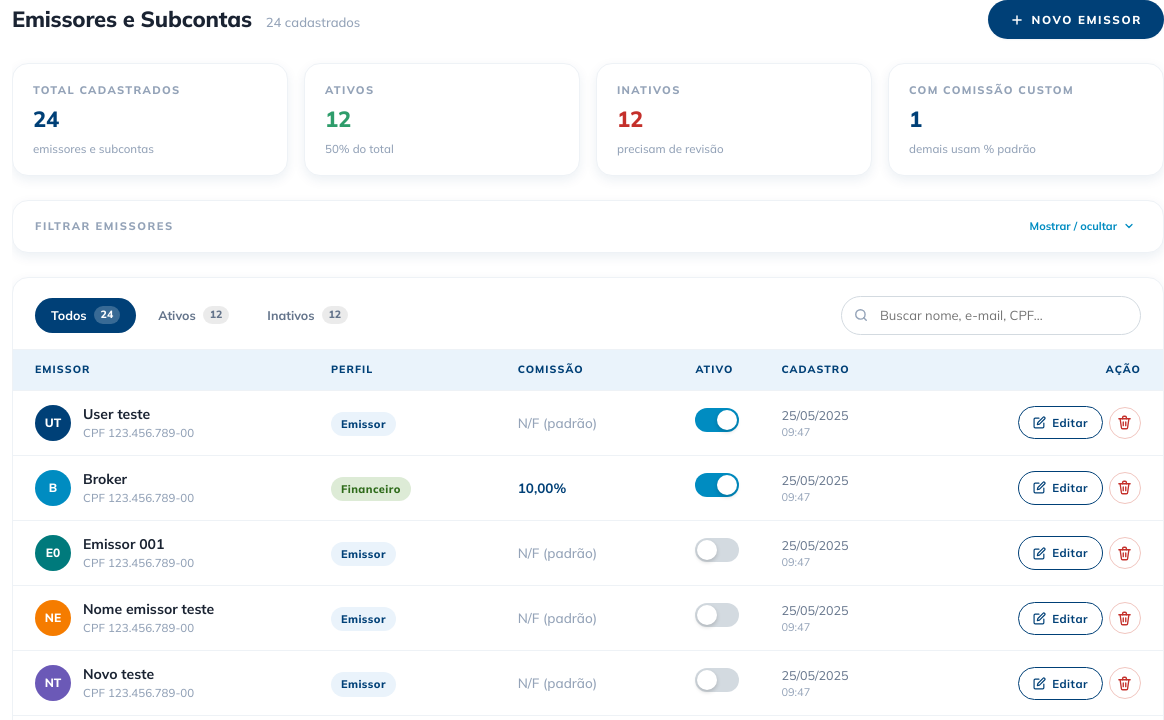
Test: EmissoresListSection › tab Inativos filtra apenas emissores com ativo false
What coordinates should you click on to do the following:
click the button "Inativos 12"
I would click on:
 (308, 315)
Its box is top-left (251, 298), bottom-right (364, 333).
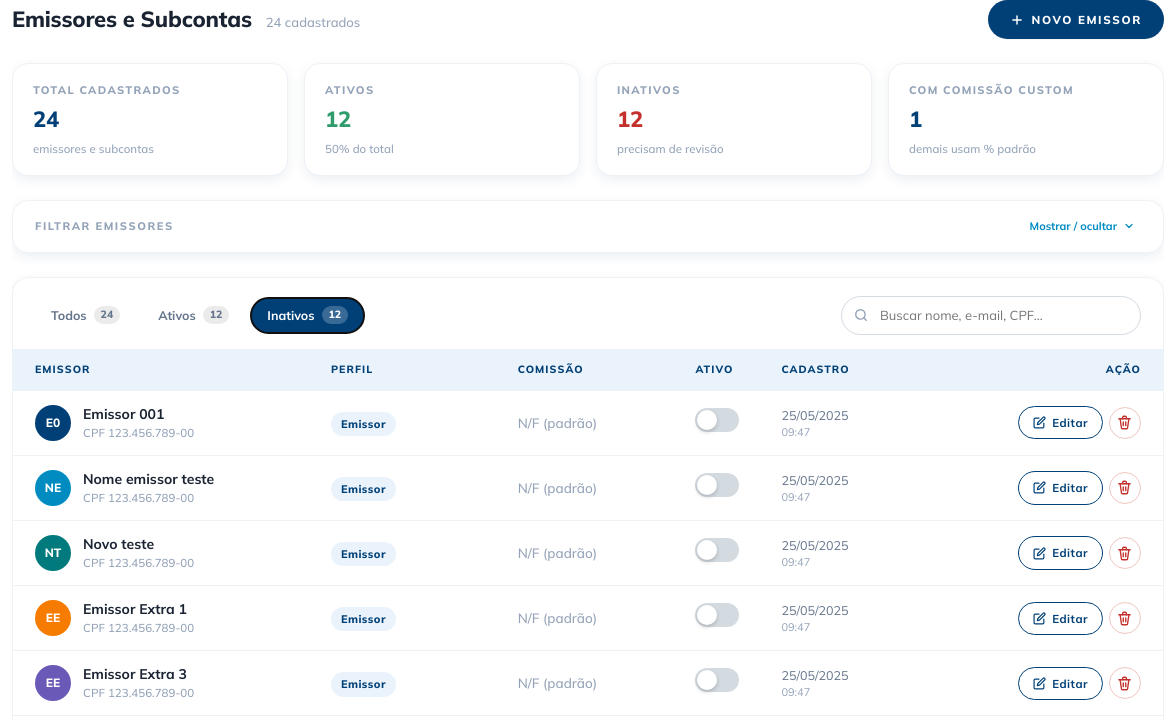
Check: the text "Emissor 001" is shown, box top-left (83, 405), bottom-right (164, 423)
Check: the text "User teste" is gone
